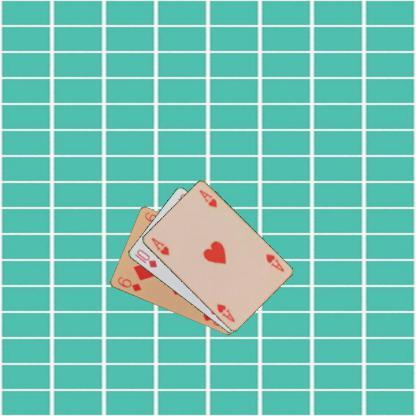10d: (132, 246, 158, 268)
6d: (115, 274, 143, 292)
Ah: (148, 235, 170, 257), (263, 252, 285, 274)
